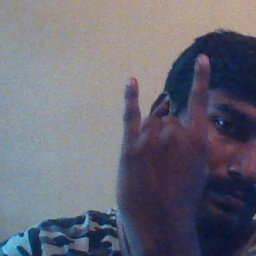V: (114, 47, 216, 215)
